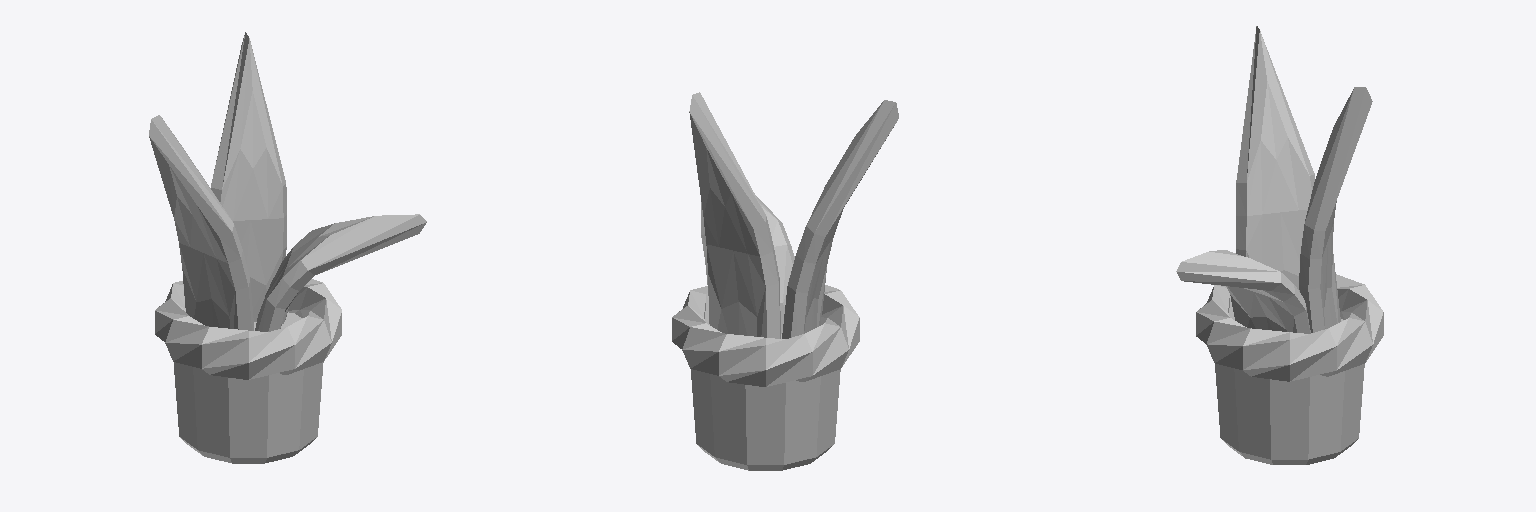
The model's file is sansevieria_plant_small_potted.obj.
The picture shows the model from 3 angles: view 1: azimuth 30°, elevation 25°; view 2: azimuth 150°, elevation 25°; view 3: azimuth 270°, elevation 25°; orthographic projection.
Visible parts, largest first — view 1: sansevieria_plant_small_potted; view 2: sansevieria_plant_small_potted; view 3: sansevieria_plant_small_potted.
Part boxes in pixels (x1,y1,x2,y2): sansevieria_plant_small_potted: (149,32,426,463); sansevieria_plant_small_potted: (672,92,898,470); sansevieria_plant_small_potted: (1176,26,1383,464).
Size of the model in its own units: 0.7155 by 1.06 by 0.5381.